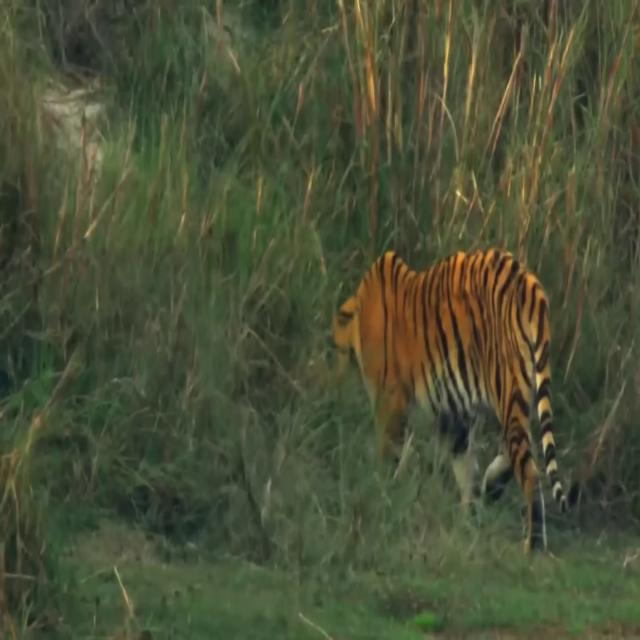tiger: (332, 246, 581, 552)
